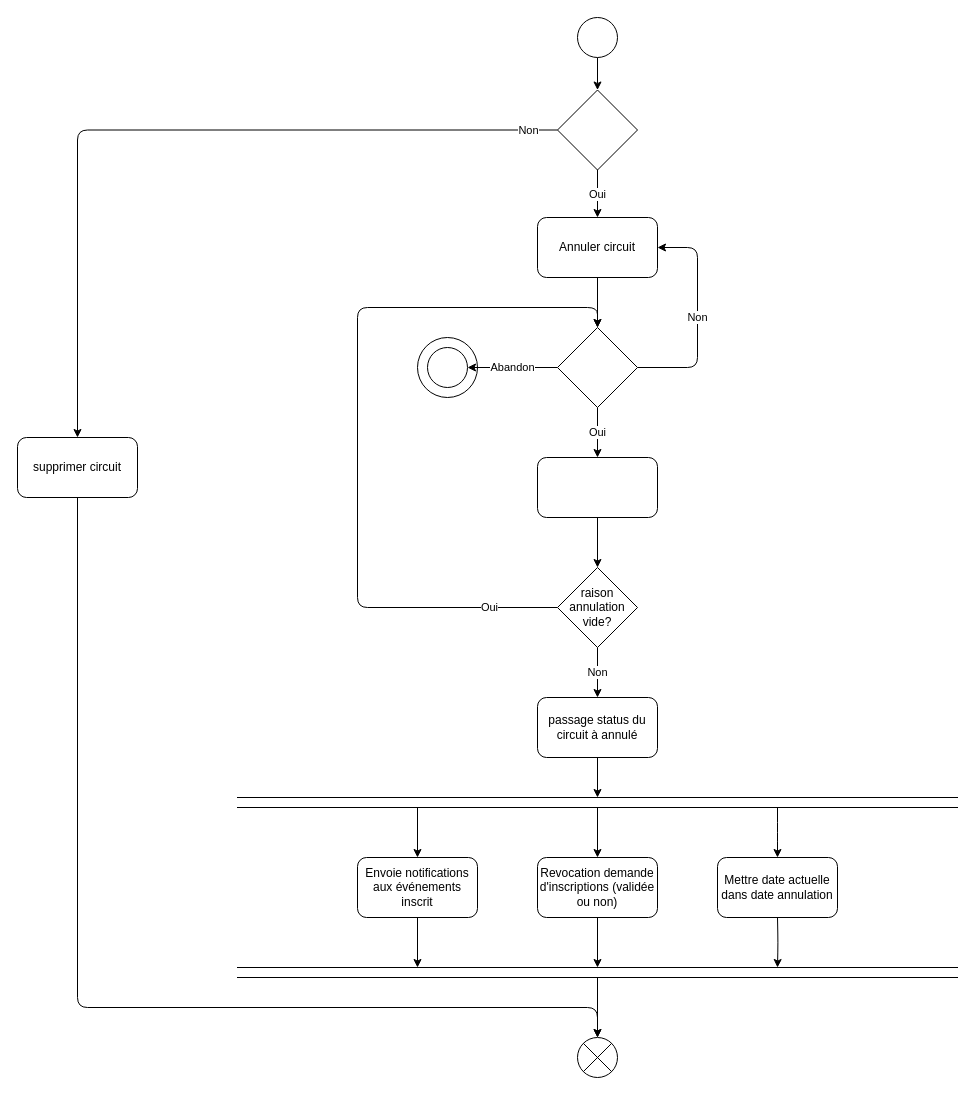
The diagram is 975 pixels wide and 1095 high, and some of its shapes have lost their labels. Each missing label, with the centre of its shape:
Circuit publié?: the point at 597,129
remplir raison annulation: the point at 597,487
Valider annulation: the point at 597,367
